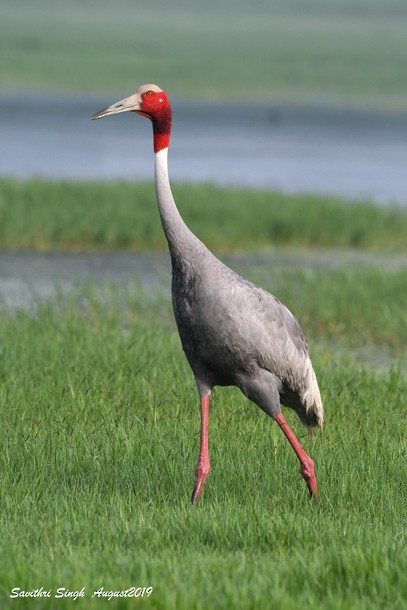crane: (87, 72, 341, 510)
